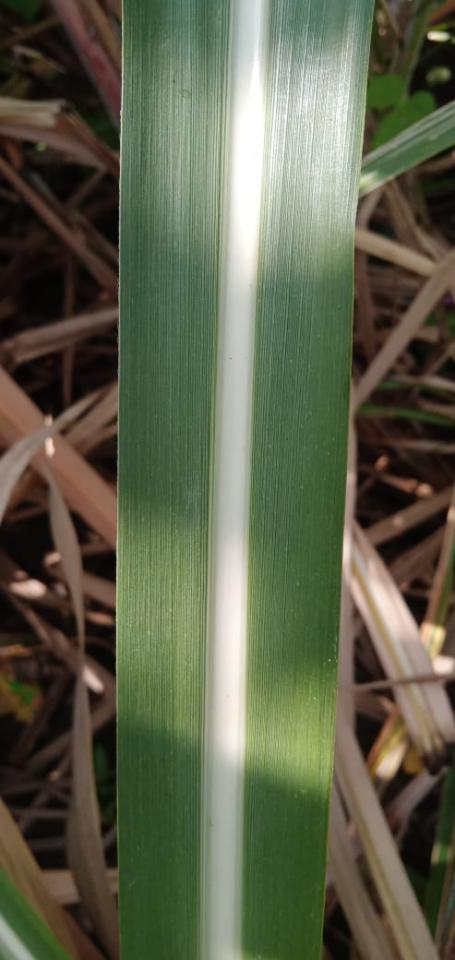Healthy: (117, 0, 372, 959)
